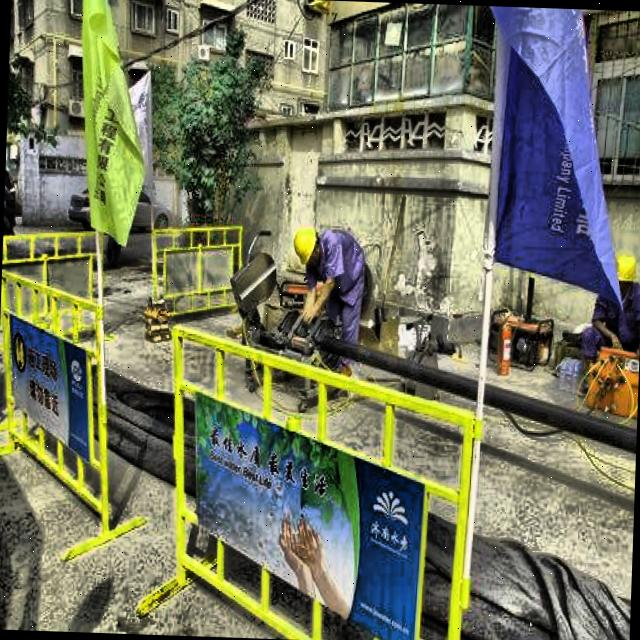helmet: (290, 226, 328, 270), (609, 249, 638, 299)
